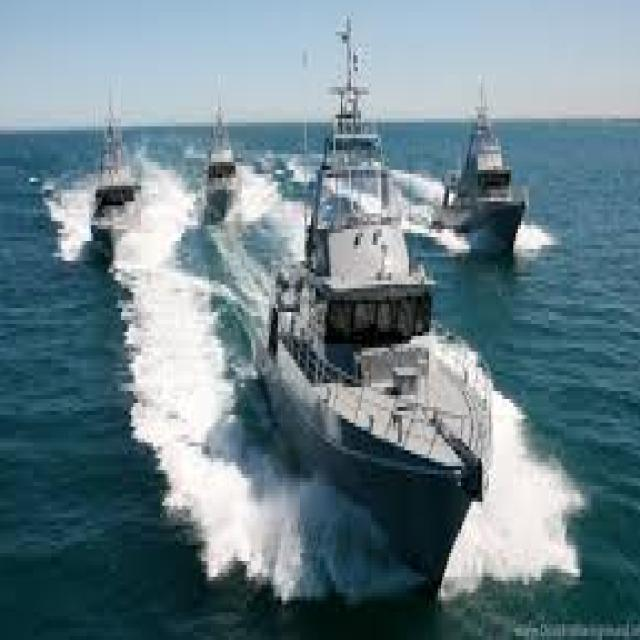houseboat: (258, 19, 491, 585), (432, 96, 526, 254), (85, 98, 140, 255), (200, 92, 240, 224)
